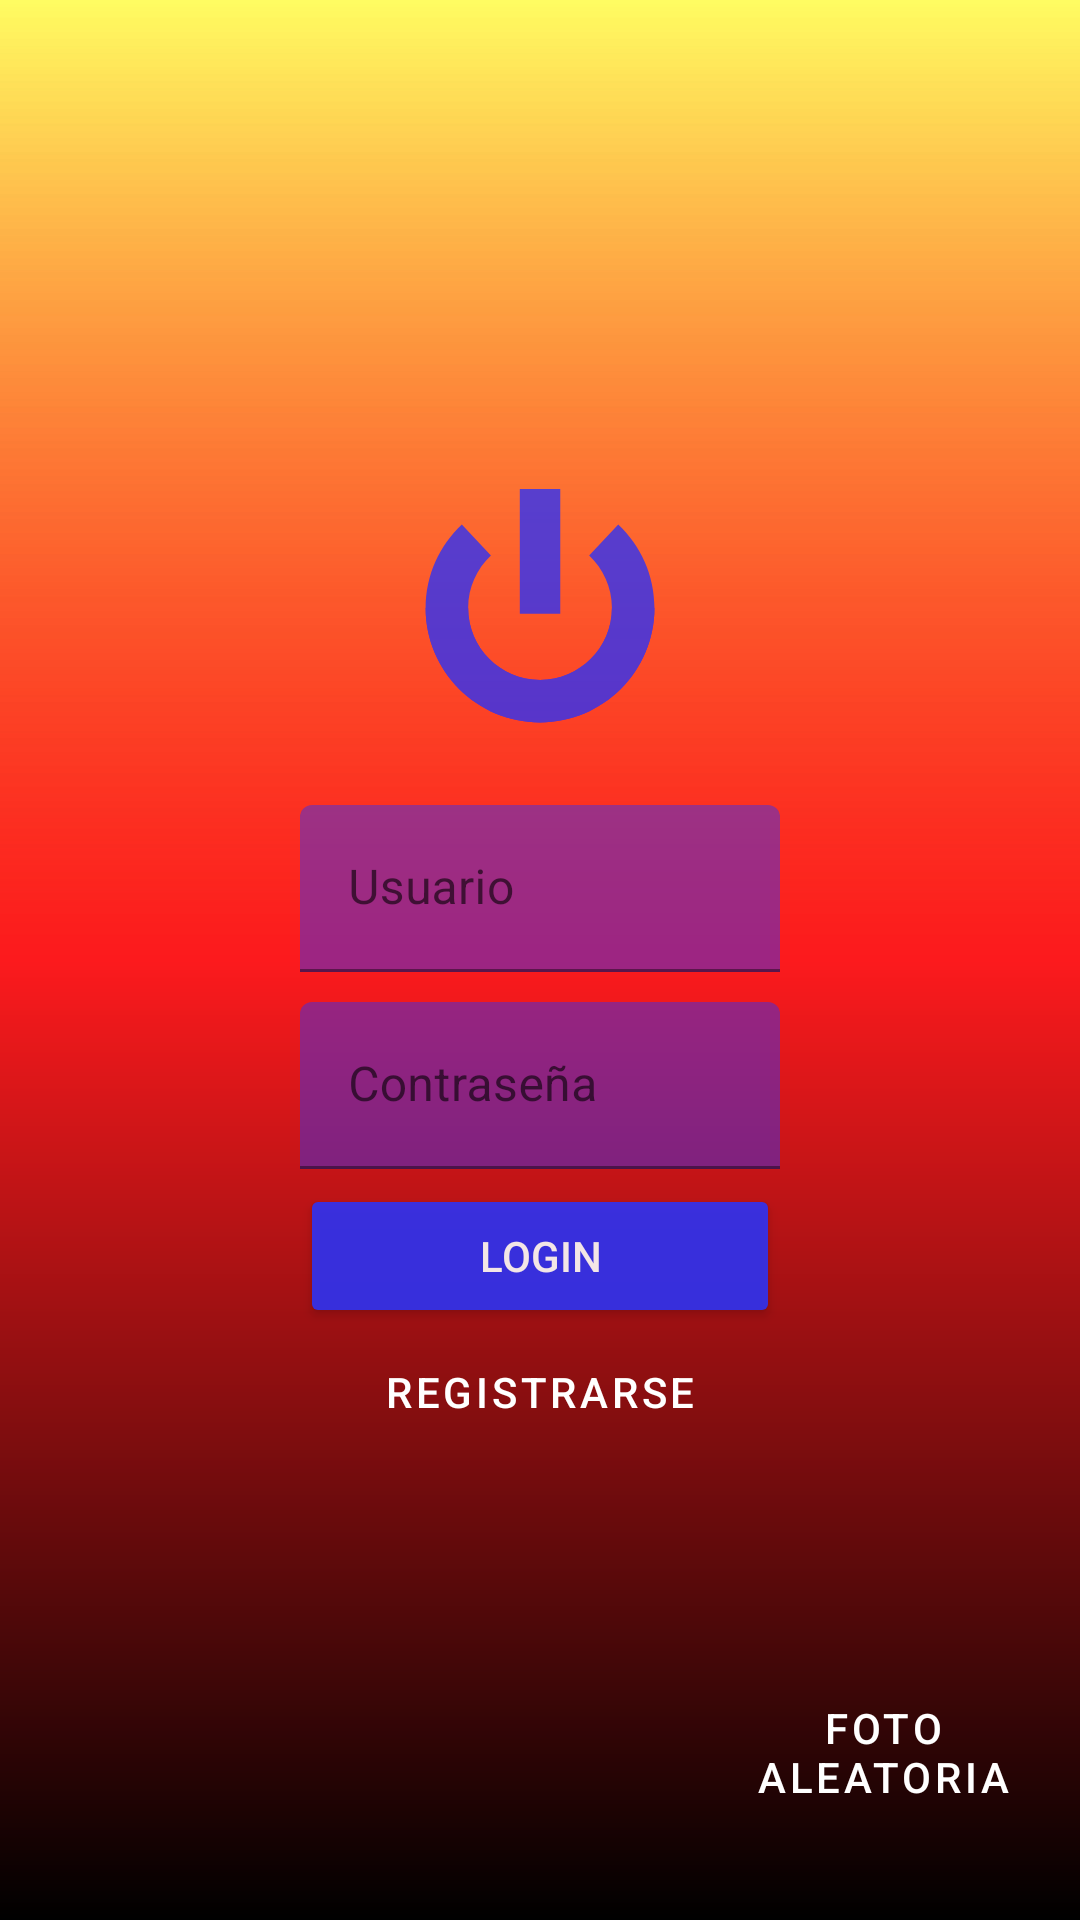

Icon click points for this 1080*1920 phone screenshot, format point (x, y):
power: point (540, 610)
